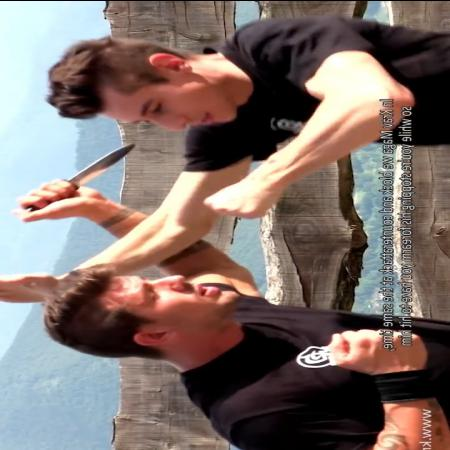long weapon: (11, 139, 140, 224)
